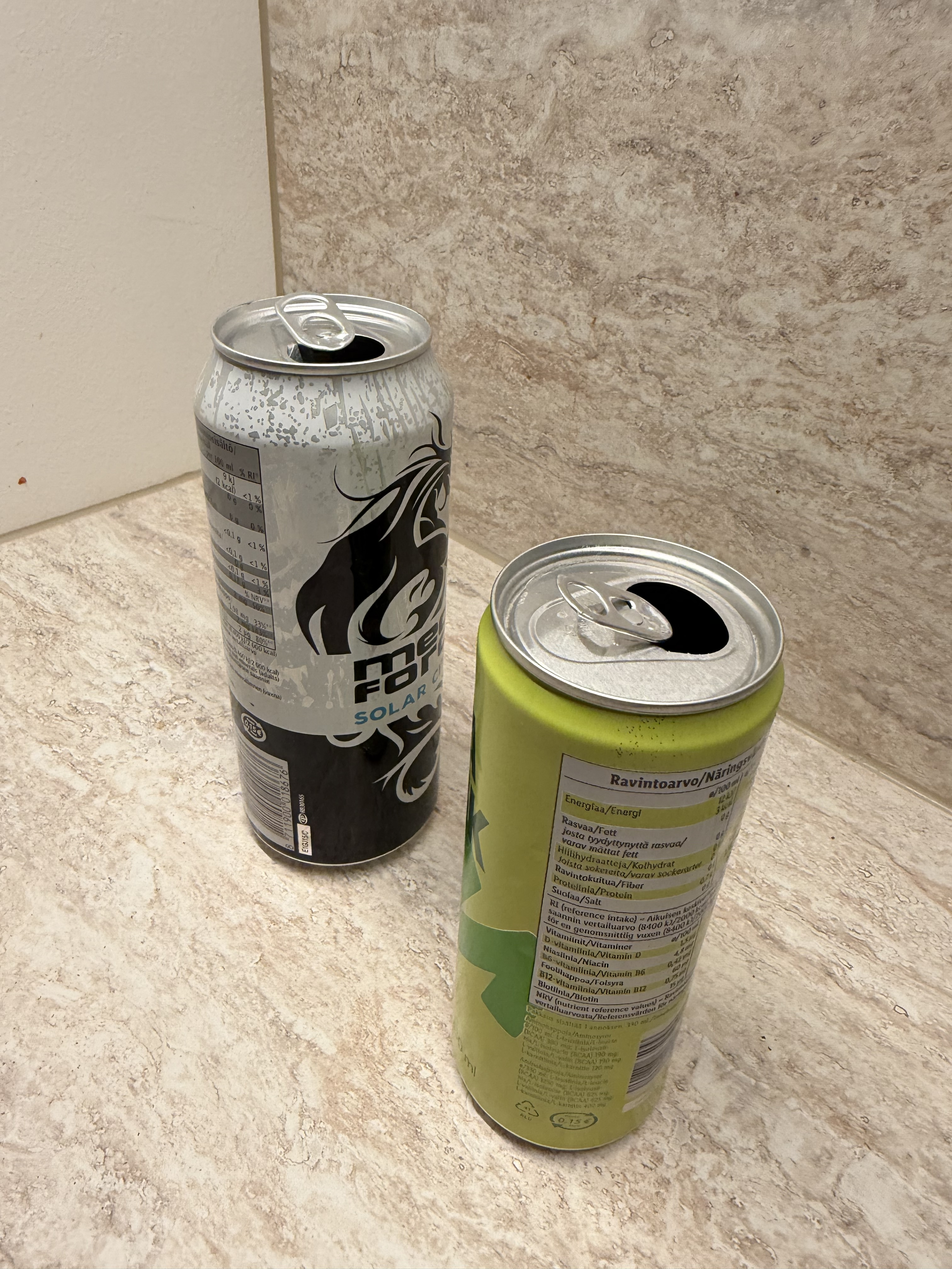Pantburk: (401, 546, 814, 1163), (149, 284, 461, 881)
